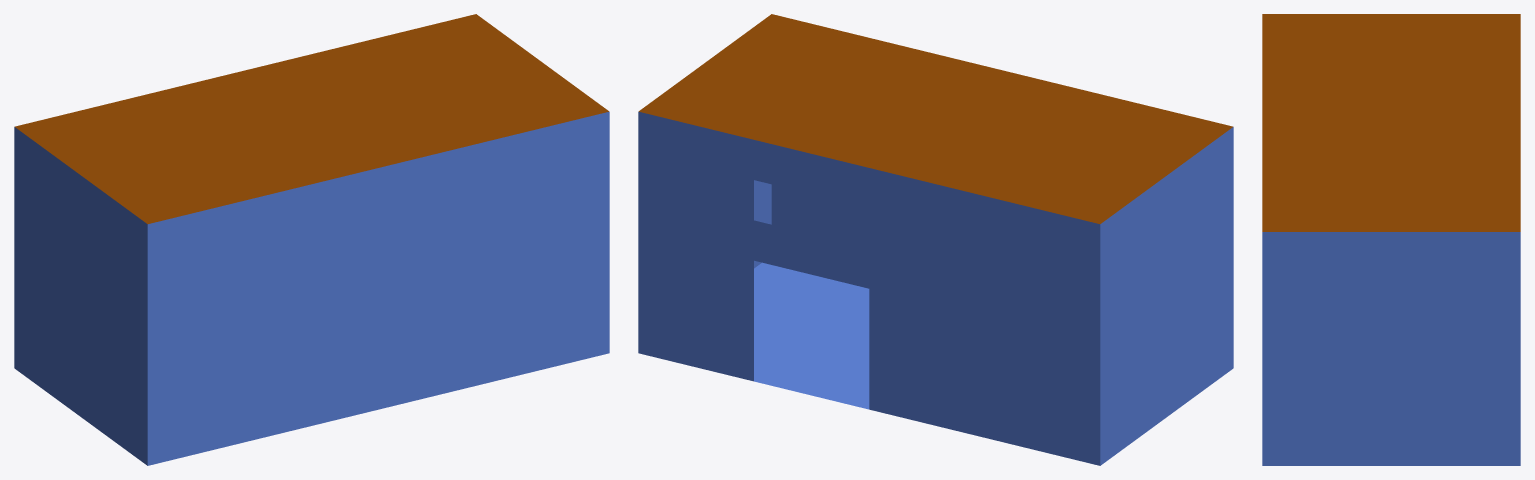
The model's file is blue.gltf.
The picture shows the model from 3 angles, left to right: view 1: azimuth 30°, elevation 25°; view 2: azimuth 150°, elevation 25°; view 3: azimuth 270°, elevation 25°; orthographic projection. The views are drawn at different scales.
Visible parts, largest first — view 1: Cube; view 2: Cube; view 3: Cube.
Part boxes in pixels (<box>): Cube: <box>14,14,609,465</box>; Cube: <box>638,14,1233,465</box>; Cube: <box>1262,14,1520,465</box>.
Size of the model in its own units: 8 by 4 by 4.
